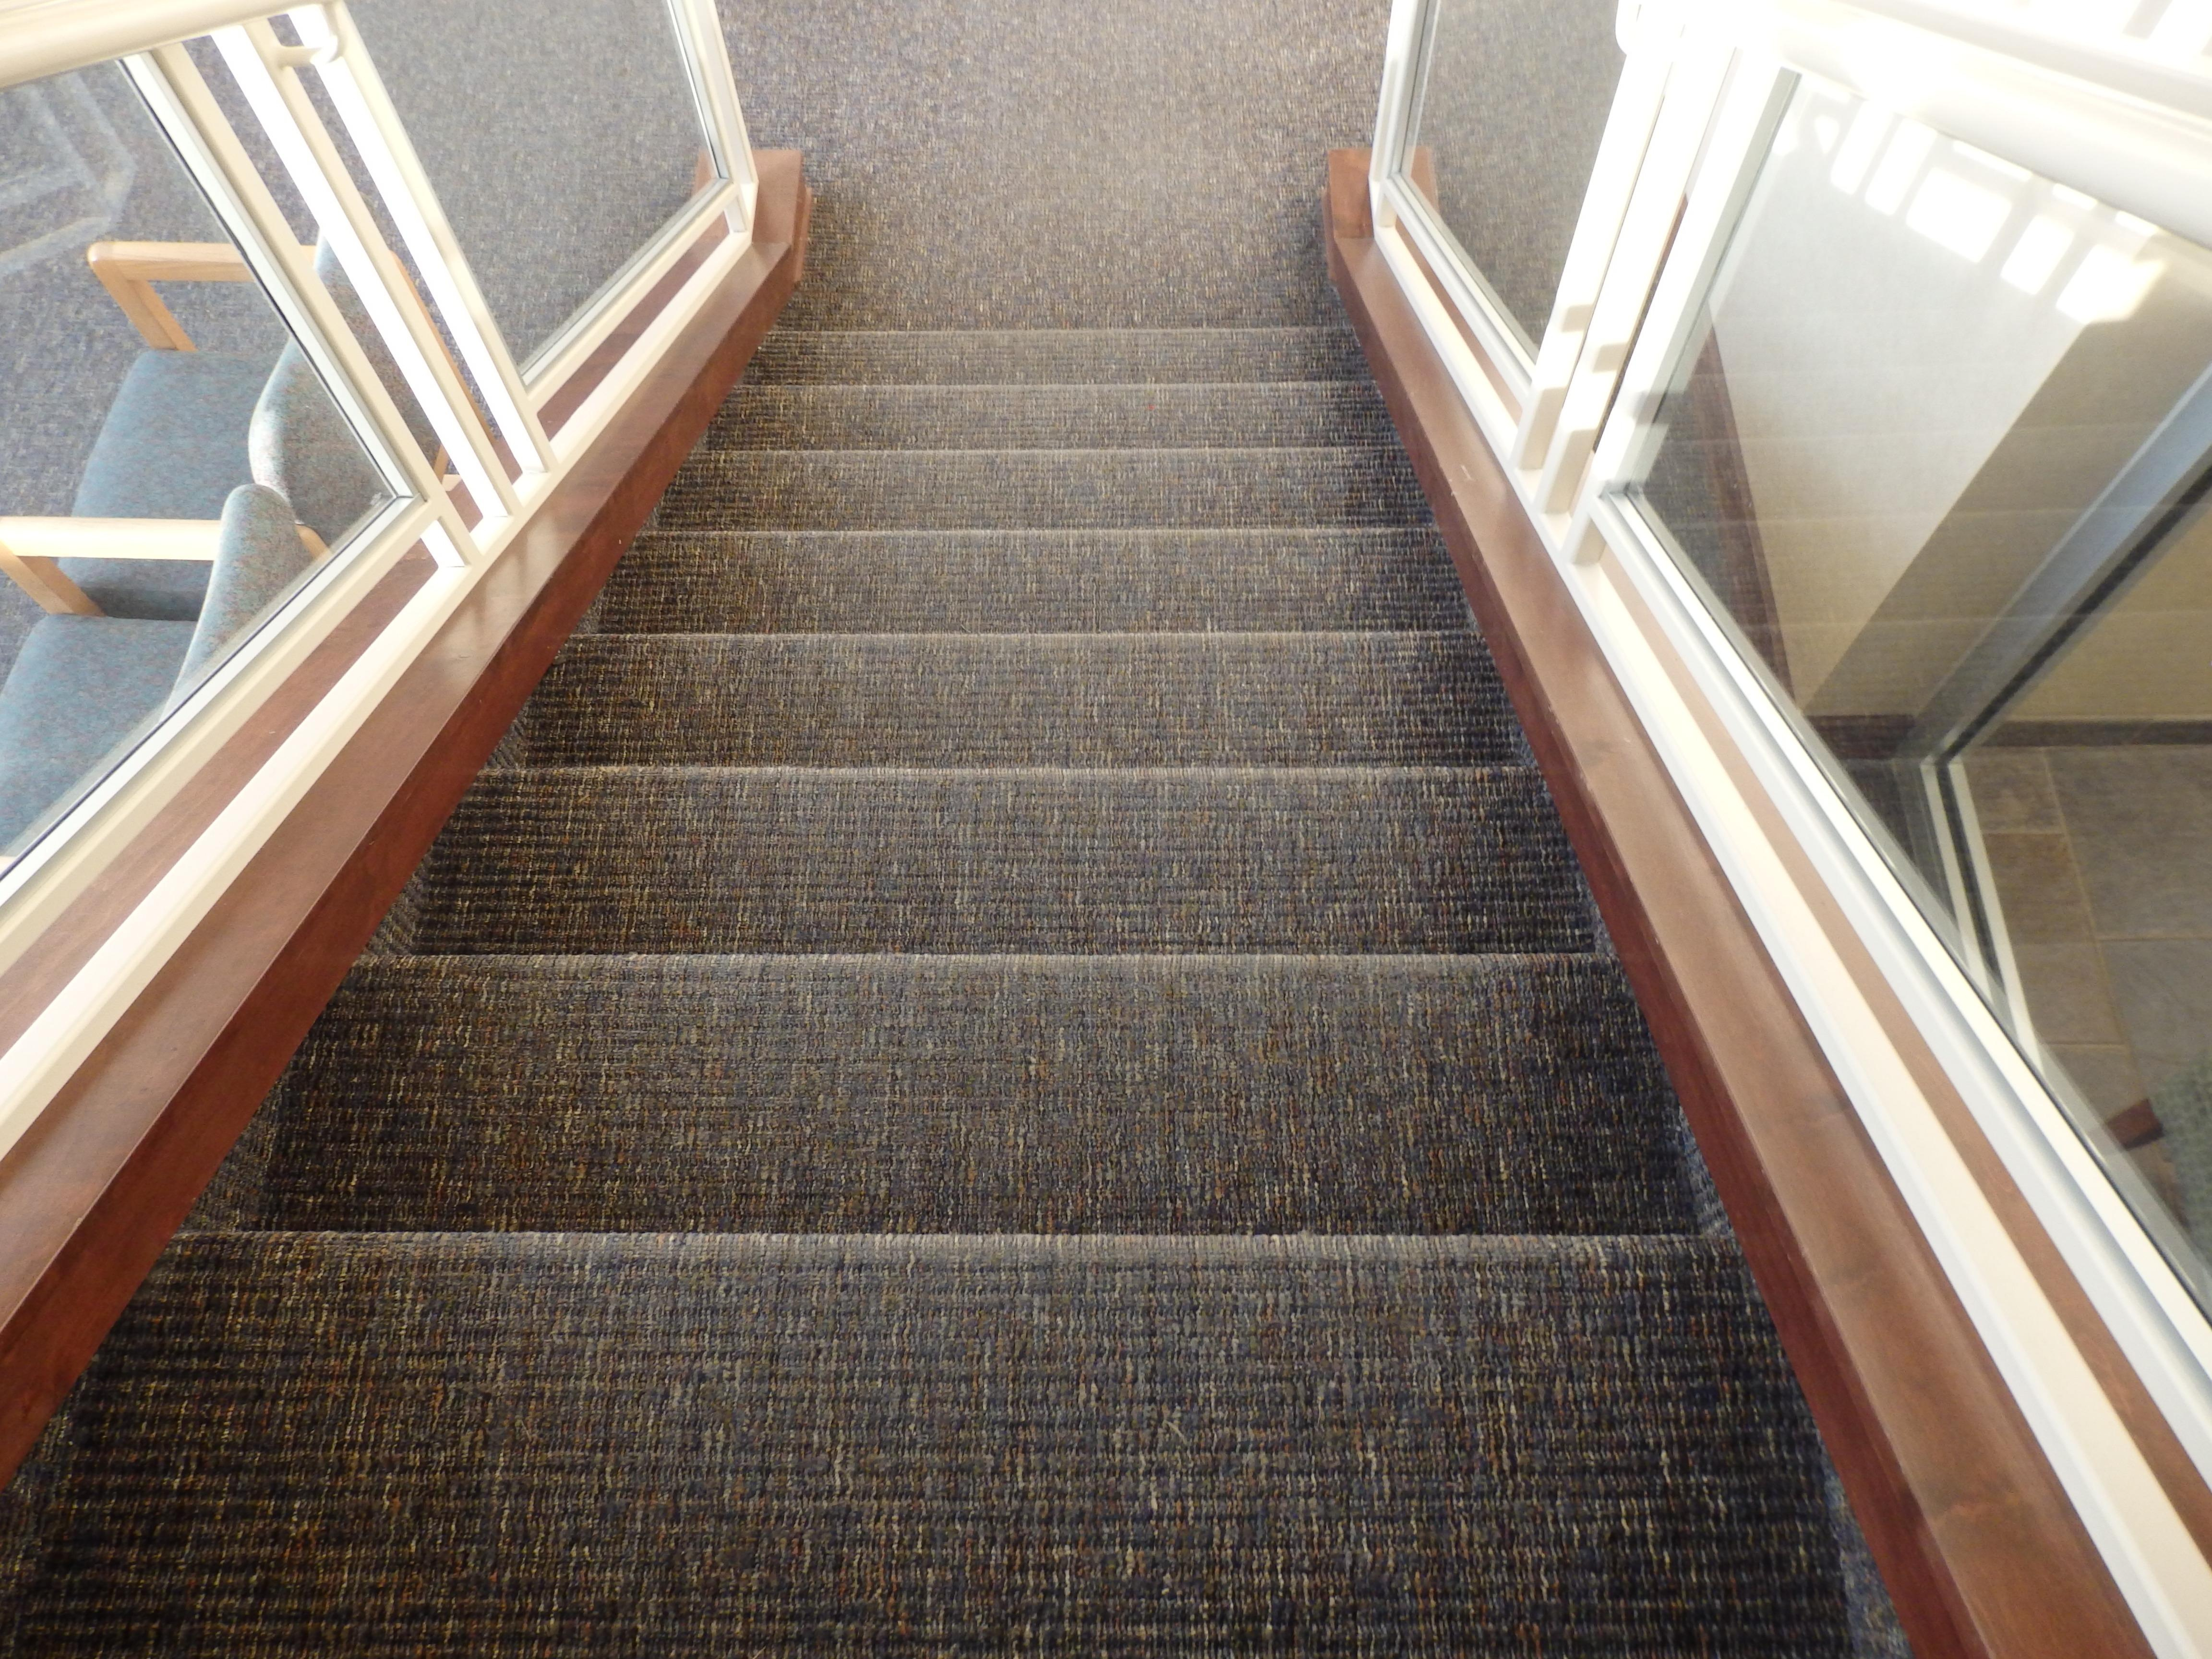stairs_down: (85, 307, 1836, 1415)
